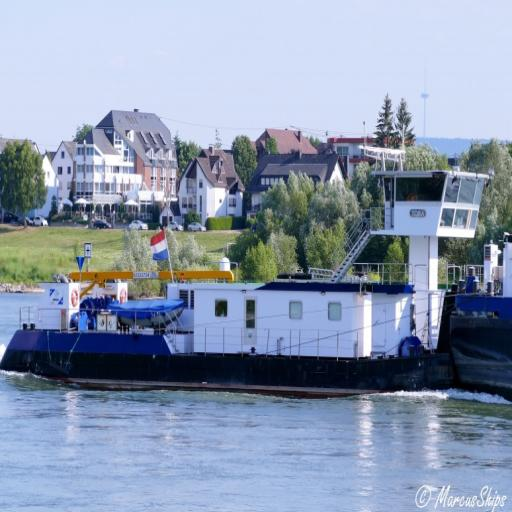tugboat: (1, 142, 494, 402)
